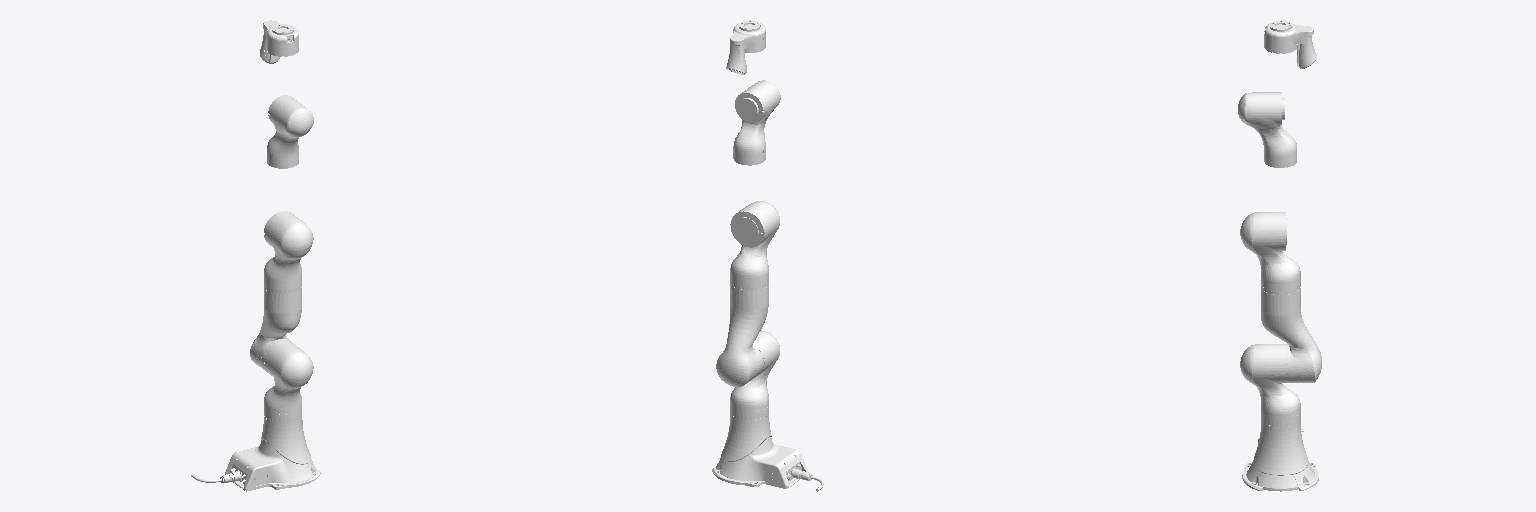
URDF robot description (xmate):
<?xml version="1.0" encoding="utf-8"?>
<!-- This URDF was automatically created by SolidWorks to URDF Exporter! Originally created by [author] ([email redacted]) 
     Commit Version: 1.6.0-4-g7f85cfe  Build Version: 1.6.7995.38578
     For more information, please see http://wiki.ros.org/sw_urdf_exporter -->
<robot
  name="xmate">
  <link 
    name="base_link">
    <inertial>
      <origin
        xyz="-0.019091 4.6236E-05 0.062409"
        rpy="0 0 0" />
      <mass
        value="3.149" />
      <inertia
        ixx="0.01181"
        ixy="1.0531E-05"
        ixz="-0.0018001"
        iyy="0.015849"
        iyz="1.0822E-06"
        izz="0.012972" />
    </inertial>
    <visual>
      <origin
        xyz="0 0 0"
        rpy="0 0 0" />
      <geometry>
        <mesh
          filename="package://xmate_description/meshes/base_link.STL" />
      </geometry>
      <material
        name="">
        <color
          rgba="1 1 1 1" />
      </material>
    </visual>
    <collision>
      <origin
        xyz="0 0 0"
        rpy="0 0 0" />
      <geometry>
        <mesh
          filename="package://xmate_description/meshes/base_link.STL" />
      </geometry>
    </collision>
  </link>
  <link
    name="Link1">
    <inertial>
      <origin
        xyz="2.0957E-06 -0.025273 0.10055"
        rpy="0 0 0" />
      <mass
        value="1.8004" />
      <inertia
        ixx="0.0095699"
        ixy="-5.5499E-07"
        ixz="-5.9388E-07"
        iyy="0.0085643"
        iyz="0.0019573"
        izz="0.0033056" />
    </inertial>
    <visual>
      <origin
        xyz="0 0 0"
        rpy="0 0 0" />
      <geometry>
        <mesh
          filename="package://xmate_description/meshes/Link1.STL" />
      </geometry>
      <material
        name="">
        <color
          rgba="1 1 1 1" />
      </material>
    </visual>
    <collision>
      <origin
        xyz="0 0 0"
        rpy="0 0 0" />
      <geometry>
        <mesh
          filename="package://xmate_description/meshes/Link1.STL" />
      </geometry>
    </collision>
  </link>
  <joint
    name="joint1"
    type="revolute">
    <origin
      xyz="0 0 0.1875"
      rpy="0 0 0" />
    <parent
      link="base_link" />
    <child
      link="Link1" />
    <axis
      xyz="0 0 1" />
    <limit
      lower="-2.967"
      upper="2.967"
      effort="94"
      velocity="3.14" />
  </joint>
  <link
    name="Link2">
    <inertial>
      <origin
        xyz="-7.7231E-06 0.0080655 0.094982"
        rpy="0 0 0" />
      <mass
        value="2.1851" />
      <inertia
        ixx="0.01796"
        ixy="6.7065E-07"
        ixz="-1.9282E-07"
        iyy="0.016293"
        iyz="0.004567"
        izz="0.0044669" />
    </inertial>
    <visual>
      <origin
        xyz="0 0 0"
        rpy="0 0 0" />
      <geometry>
        <mesh
          filename="package://xmate_description/meshes/Link2.STL" />
      </geometry>
      <material
        name="">
        <color
          rgba="1 1 1 1" />
      </material>
    </visual>
    <collision>
      <origin
        xyz="0 0 0"
        rpy="0 0 0" />
      <geometry>
        <mesh
          filename="package://xmate_description/meshes/Link2.STL" />
      </geometry>
    </collision>
  </link>
  <joint
    name="joint2"
    type="revolute">
    <origin
      xyz="0 0.019574 0.1537"
      rpy="0 0 0" />
    <parent
      link="Link1" />
    <child
      link="Link2" />
    <axis
      xyz="0 1 0" />
    <limit
      lower="-2.094"
      upper="2.094"
      effort="110"
      velocity="3.14" />
  </joint>
  <link
    name="Link3">
    <inertial>
      <origin
        xyz="1.7981E-06 -0.025268 0.10695"
        rpy="0 0 0" />
      <mass
        value="1.8005" />
      <inertia
        ixx="0.0095706"
        ixy="-5.6305E-07"
        ixz="-6.0731E-07"
        iyy="0.0085644"
        iyz="0.0019583"
        izz="0.0033062" />
    </inertial>
    <visual>
      <origin
        xyz="0 0 0"
        rpy="0 0 0" />
      <geometry>
        <mesh
          filename="package://xmate_description/meshes/Link3.STL" />
      </geometry>
      <material
        name="">
        <color
          rgba="1 1 1 1" />
      </material>
    </visual>
    <collision>
      <origin
        xyz="0 0 0"
        rpy="0 0 0" />
      <geometry>
        <mesh
          filename="package://xmate_description/meshes/Link3.STL" />
      </geometry>
    </collision>
  </link>
  <joint
    name="joint3"
    type="revolute">
    <origin
      xyz="0 -0.019574 0.2339"
      rpy="0 0 0" />
    <parent
      link="Link2" />
    <child
      link="Link3" />
    <axis
      xyz="0 0 1" />
    <limit
      lower="-2.967"
      upper="2.967"
      effort="94"
      velocity="3.14" />
  </joint>
  <link
    name="Link4">
    <inertial>
      <origin
        xyz="3.8223E-06 0.013309 0.075673"
        rpy="0 0 0" />
      <mass
        value="1.8003" />
      <inertia
        ixx="0.013101"
        ixy="1.9071E-07"
        ixz="-6.6439E-07"
        iyy="0.011754"
        iyz="0.0034777"
        izz="0.0033663" />
    </inertial>
    <visual>
      <origin
        xyz="0 0 0"
        rpy="0 0 0" />
      <geometry>
        <mesh
          filename="package://xmate_description/meshes/Link4.STL" />
      </geometry>
      <material
        name="">
        <color
          rgba="1 1 1 1" />
      </material>
    </visual>
    <collision>
      <origin
        xyz="0 0 0"
        rpy="0 0 0" />
      <geometry>
        <mesh
          filename="package://xmate_description/meshes/Link4.STL" />
      </geometry>
    </collision>
  </link>
  <joint
    name="joint4"
    type="revolute">
    <origin
      xyz="0 0.0196 0.1604"
      rpy="0 0 0" />
    <parent
      link="Link3" />
    <child
      link="Link4" />
    <axis
      xyz="0 1 0" />
    <limit
      lower="-2.094"
      upper="2.094"
      effort="94"
      velocity="3.14" />
  </joint>
  <link
    name="Link5">
    <inertial>
      <origin
        xyz="-0.00022851 -0.031271 0.089895"
        rpy="0 0 0" />
      <mass
        value="1.2959" />
      <inertia
        ixx="0.0059856"
        ixy="-4.2315E-07"
        ixz="4.9288E-07"
        iyy="0.0048985"
        iyz="0.0015266"
        izz="0.0022675" />
    </inertial>
    <visual>
      <origin
        xyz="0 0 0"
        rpy="0 0 0" />
      <geometry>
        <mesh
          filename="package://xmate_description/meshes/Link5.STL" />
      </geometry>
      <material
        name="">
        <color
          rgba="1 1 1 1" />
      </material>
    </visual>
    <collision>
      <origin
        xyz="0 0 0"
        rpy="0 0 0" />
      <geometry>
        <mesh
          filename="package://xmate_description/meshes/Link5.STL" />
      </geometry>
    </collision>
  </link>
  <joint
    name="joint5"
    type="revolute">
    <origin
      xyz="0.00024323 -0.019605 0.23041"
      rpy="0 0 0" />
    <parent
      link="Link4" />
    <child
      link="Link5" />
    <axis
      xyz="0 0 1" />
    <limit
      lower="-2.967"
      upper="2.967"
      effort="29"
      velocity="3.14" />
  </joint>
  <link
    name="Link6">
    <inertial>
      <origin
        xyz="1.1944E-05 0.0054276 0.084293"
        rpy="0 0 0" />
      <mass
        value="1.2251" />
      <inertia
        ixx="0.006284"
        ixy="-1.5126E-07"
        ixz="3.4283E-07"
        iyy="0.0059857"
        iyz="0.0012842"
        izz="0.0014649" />
    </inertial>
    <visual>
      <origin
        xyz="0 0 0"
        rpy="0 0 0" />
      <geometry>
        <mesh
          filename="package://xmate_description/meshes/Link6.STL" />
      </geometry>
      <material
        name="">
        <color
          rgba="1 1 1 1" />
      </material>
    </visual>
    <collision>
      <origin
        xyz="0 0 0"
        rpy="0 0 0" />
      <geometry>
        <mesh
          filename="package://xmate_description/meshes/Link6.STL" />
      </geometry>
    </collision>
  </link>
  <joint
    name="joint6"
    type="revolute">
    <origin
      xyz="-0.00024274 0.0097253 0.13559"
      rpy="0 0 0" />
    <parent
      link="Link5" />
    <child
      link="Link6" />
    <axis
      xyz="0 1 0" />
    <limit
      lower="-2.094"
      upper="2.094"
      effort="29"
      velocity="3.14" />
  </joint>
  <link
    name="Link7">
    <inertial>
      <origin
        xyz="4.6311E-05 0.023055 0.014446"
        rpy="0 0 0" />
      <mass
        value="0.54271" />
      <inertia
        ixx="0.0011662"
        ixy="-2.3556E-07"
        ixz="-4.2707E-07"
        iyy="0.00063847"
        iyz="0.0002823"
        izz="0.0009518" />
    </inertial>
    <visual>
      <origin
        xyz="0 0 0"
        rpy="0 0 0" />
      <geometry>
        <mesh
          filename="package://xmate_description/meshes/Link7.STL" />
      </geometry>
      <material
        name="">
        <color
          rgba="1 1 1 1" />
      </material>
    </visual>
    <collision>
      <origin
        xyz="0 0 0"
        rpy="0 0 0" />
      <geometry>
        <mesh
          filename="package://xmate_description/meshes/Link7.STL" />
      </geometry>
    </collision>
  </link>
  <joint
    name="joint7"
    type="revolute">
    <origin
      xyz="0 -0.00972 0.1911"
      rpy="0 0 0" />
    <parent
      link="Link6" />
    <child
      link="Link7" />
    <axis
      xyz="0 0 1" />
    <limit
      lower="-6.28"
      upper="6.28"
      effort="29"
      velocity="3.14" />
  </joint>
</robot>

--- What the picture shows (computed from the rendered views, not written in the file) ---
3 views of the same robot in one strip: view 1: azimuth 30°, elevation 25°; view 2: azimuth 150°, elevation 25°; view 3: azimuth 270°, elevation 25° (orthographic).
Robot: xmate — 8 links, 7 joints (7 revolute); root link base_link; default pose: all joints at 0.
Visible links, largest first — view 1: base_link, Link1, Link3, Link5, Link2, Link7; view 2: base_link, Link2, Link3, Link5, Link1, Link7; view 3: base_link, Link2, Link3, Link1, Link5, Link7.
Link boxes in pixels (x1=…): base_link: x1=191, y1=417, x2=320, y2=491; Link1: x1=264, y1=340, x2=313, y2=422; Link3: x1=264, y1=211, x2=313, y2=293; Link5: x1=267, y1=95, x2=313, y2=168; Link2: x1=250, y1=288, x2=301, y2=372; Link7: x1=260, y1=20, x2=298, y2=63; base_link: x1=712, y1=413, x2=823, y2=491; Link2: x1=716, y1=284, x2=768, y2=386; Link3: x1=730, y1=201, x2=779, y2=290; Link5: x1=733, y1=80, x2=780, y2=165; Link1: x1=730, y1=330, x2=779, y2=419; Link7: x1=726, y1=20, x2=765, y2=74; base_link: x1=1242, y1=420, x2=1318, y2=491; Link2: x1=1261, y1=288, x2=1321, y2=382; Link3: x1=1240, y1=212, x2=1300, y2=295; Link1: x1=1240, y1=344, x2=1300, y2=426; Link5: x1=1238, y1=92, x2=1296, y2=167; Link7: x1=1264, y1=20, x2=1316, y2=68.
Size in the robot's own frame: 0.345 by 0.2291 by 1.35 metres.
Meshes: 8 distinct files referenced, 6 mesh visuals loaded (6 binary STL); not drawn: 2 (reference not matched to a file when rendering).